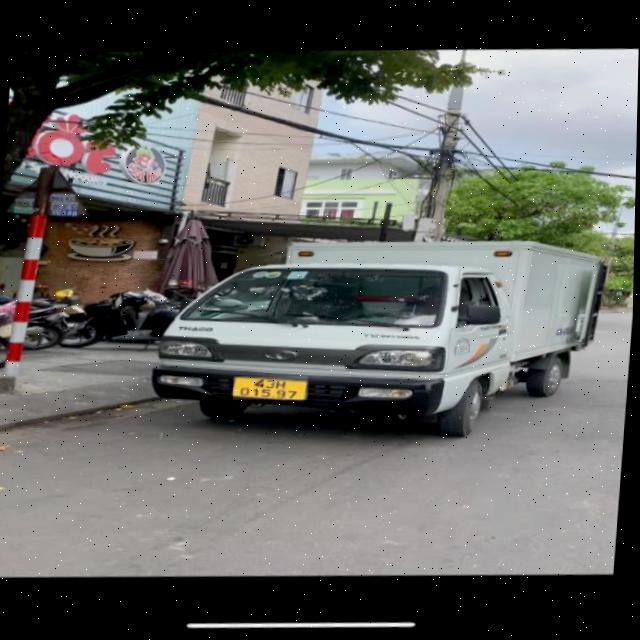car: (140, 220, 597, 460)
plate: (225, 366, 316, 412)
